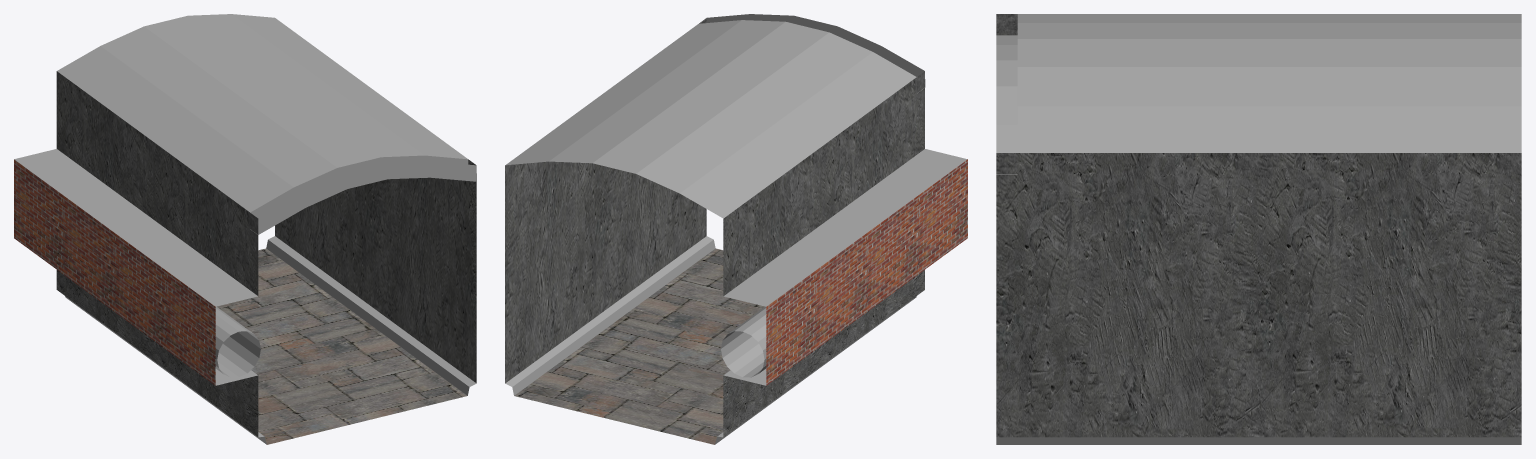
The model's file is korob03.fbx.
3 views of the same model, side by side, from view 1: azimuth 30°, elevation 25°; view 2: azimuth 150°, elevation 25°; view 3: azimuth 270°, elevation 25° (orthographic). The views are drawn at different scales.
Parts seen in each view (by area): view 1: polySurface2; view 2: polySurface2; view 3: polySurface2.
Boxes of the visible parts, x1,y1,x2,y2 form: polySurface2: [14, 14, 476, 444]; polySurface2: [505, 14, 967, 444]; polySurface2: [996, 14, 1521, 444].
Bounding box in the file's own units: 11.97 × 11.02 × 16.
